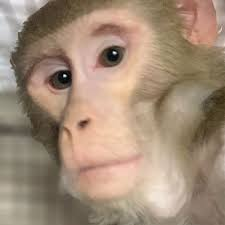monkey: (4, 2, 208, 217)
